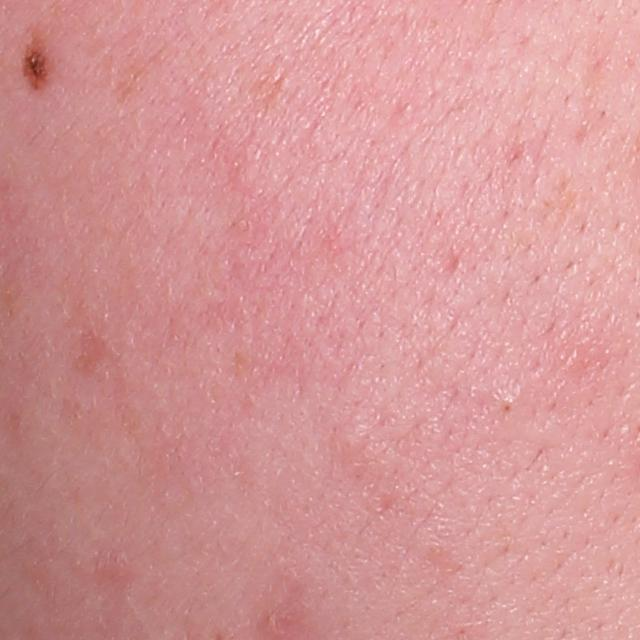comedo: (496, 393, 522, 425)
